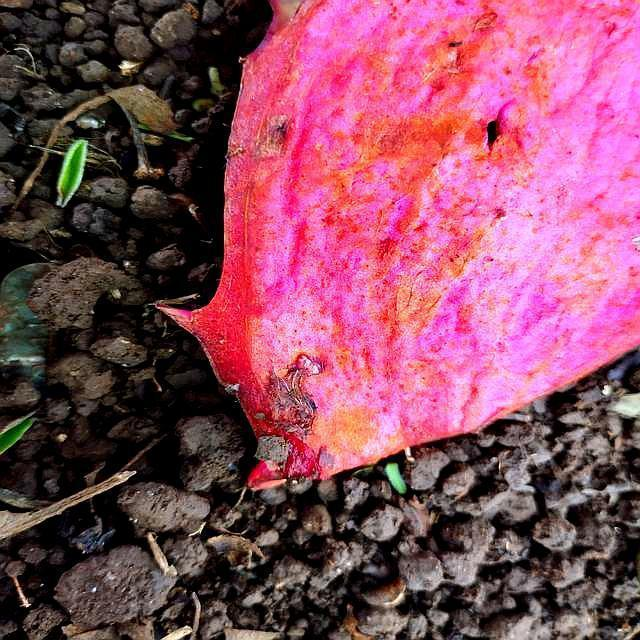Biodegradable: (223, 1, 640, 475)
